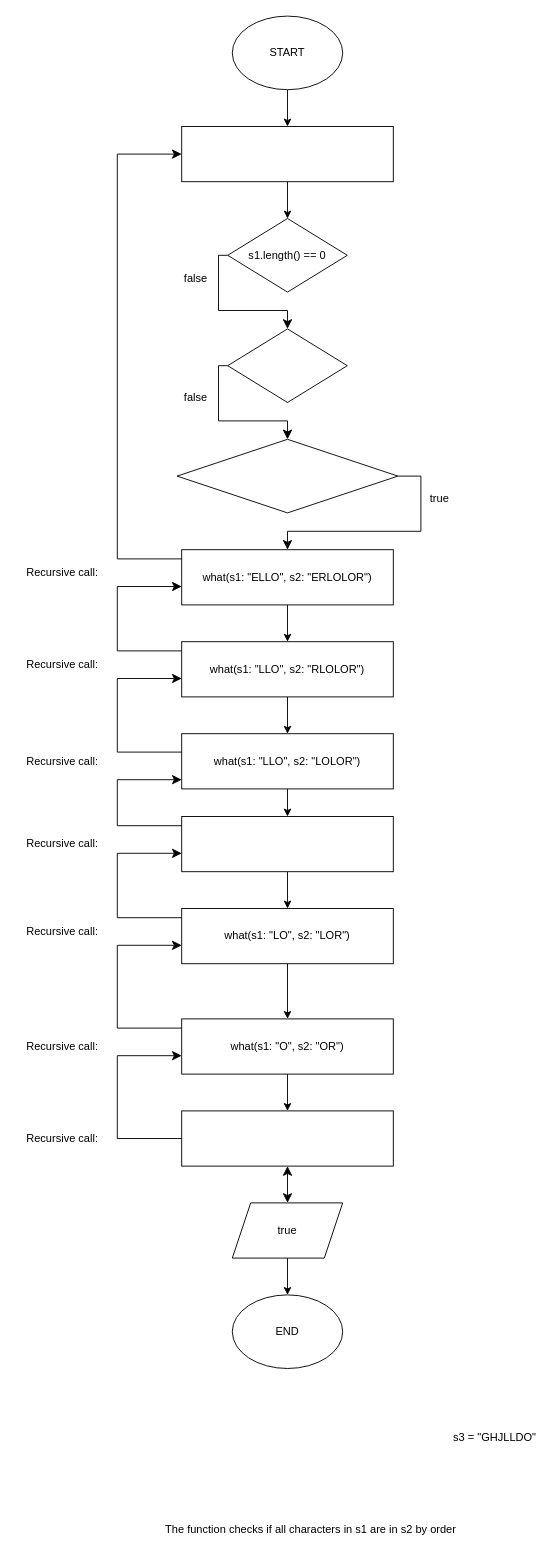
Some shapes in this 560 by 1559 pixel diagram are drawn without their labels. Here are the shapes that lost their labels. From the top down, the centre of each, then its label:
point 287,154: what(s1: "HELLO", s2: "HERLOLOR")
point 287,365: s2.length() == 0
point 287,475: s1.charAt(0) == s2.charAt(0)
point 287,844: what(s1: "LO", s2: "OLOR")
point 287,1138: what(s1: "", s2: "R")
